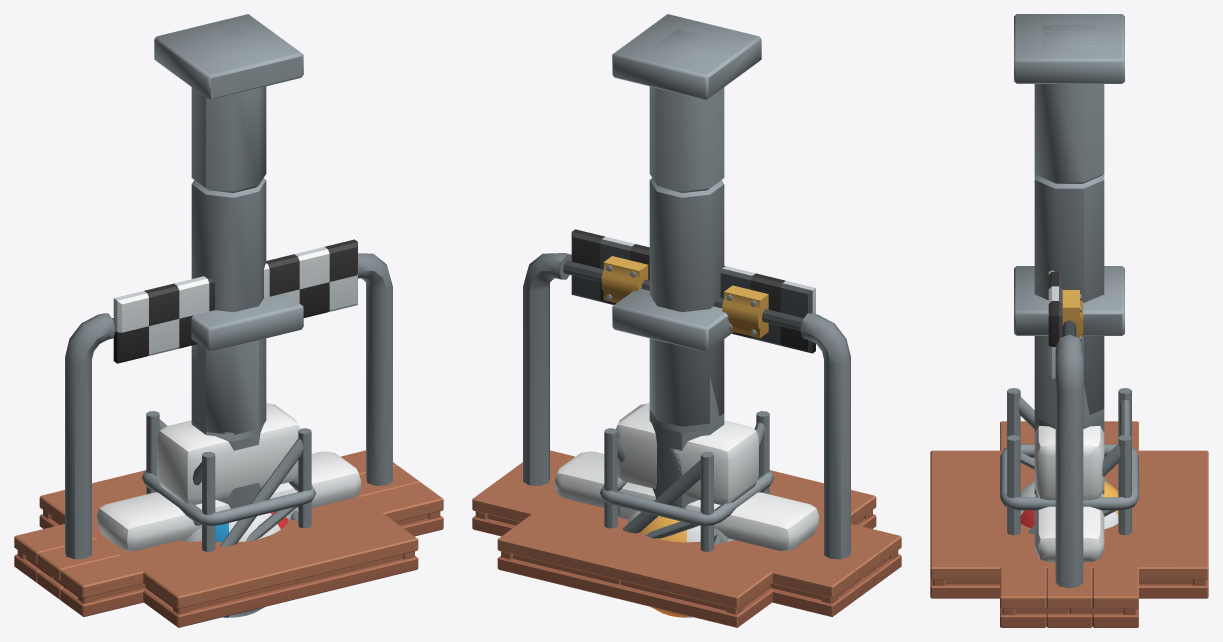
The model's file is world-sky.glb.
3 renders of one model, left to right at view 1: azimuth 30°, elevation 25°; view 2: azimuth 150°, elevation 25°; view 3: azimuth 270°, elevation 25°, orthographic.
Parts seen in each view (by area): view 1: pillar_2x2x8, floor_wood_4x4, floor_wood_2x6, signage_finish, pillar_2x2x4, signage_finish_board, barrier_2x1x2, barrier_4x1x1, structure_C, structure_B, ball; view 2: pillar_2x2x8, floor_wood_4x4, signage_finish, floor_wood_2x6, signage_finish_board, barrier_2x1x2, barrier_4x1x1, pillar_2x2x4, structure_C, structure_B, ball, pillar_1x1x8; view 3: pillar_2x2x8, floor_wood_4x4, floor_wood_2x6, signage_finish, pillar_2x2x4, structure_C, barrier_2x1x2, structure_B, barrier_4x1x1, signage_finish_board, pillar_1x1x8, floor_wood_2x2 (+1 smaller).
Boxes of the visible parts, x1,y1,x2,y2 form: pillar_2x2x8: (154,14,303,507); floor_wood_4x4: (39,470,418,627); floor_wood_2x6: (14,450,443,616); signage_finish: (65,253,392,559); pillar_2x2x4: (191,293,303,508); signage_finish_board: (113,239,357,363); barrier_2x1x2: (157,403,299,541); barrier_4x1x1: (96,451,361,550); structure_C: (146,411,311,551); structure_B: (142,470,315,551); ball: (215,511,288,617); pillar_2x2x8: (612,14,761,508); floor_wood_4x4: (497,470,876,627); signage_finish: (523,253,850,559); floor_wood_2x6: (472,450,901,616); signage_finish_board: (571,229,815,353); barrier_2x1x2: (616,403,758,541); barrier_4x1x1: (554,451,819,550); pillar_2x2x4: (612,289,733,508); structure_C: (604,411,769,551); structure_B: (600,470,773,550); ball: (627,511,700,617); pillar_1x1x8: (652,29,719,59); pillar_2x2x8: (1014,14,1124,493); floor_wood_4x4: (930,450,1208,598); floor_wood_2x6: (1000,421,1138,627); signage_finish: (1055,320,1083,588); pillar_2x2x4: (1014,266,1124,494); structure_C: (1007,388,1131,535); barrier_2x1x2: (1034,426,1104,512); structure_B: (1000,444,1138,534); barrier_4x1x1: (1034,493,1104,562); signage_finish_board: (1048,270,1083,378); pillar_1x1x8: (1043,25,1095,47); floor_wood_2x2: (1001,480,1137,537).
Size of the model in its own units: 6 by 9 by 4.
Materials: 1 (1 with a texture image).
